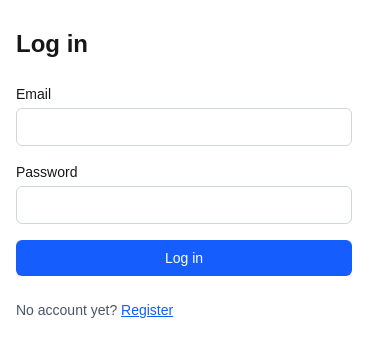
Test: LoginPage › shows the server error when credentials are wrong
Type "hieu@example.com" into the field labelled "Email". click: {"x": 184, "y": 127}
box: [16,108,352,146]
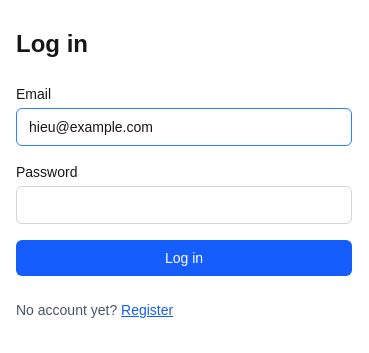
Type "wrong-password" into the password field labelled "Password". click: {"x": 184, "y": 205}
box: [16,186,352,224]
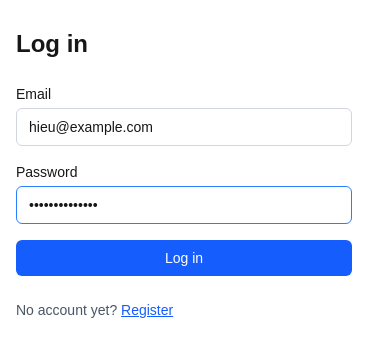
Click the button "Log in". click: {"x": 184, "y": 258}
box: [16,240,352,276]
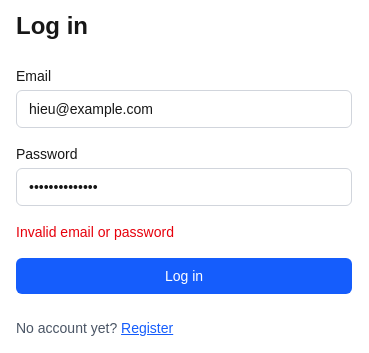
Now the message reads "Invalid email or password", box [16,224,174,240]
